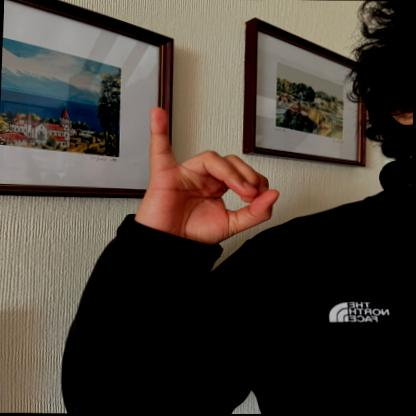D: (125, 98, 285, 246)
